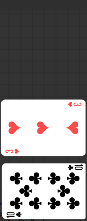10C: (5, 211, 23, 219)
